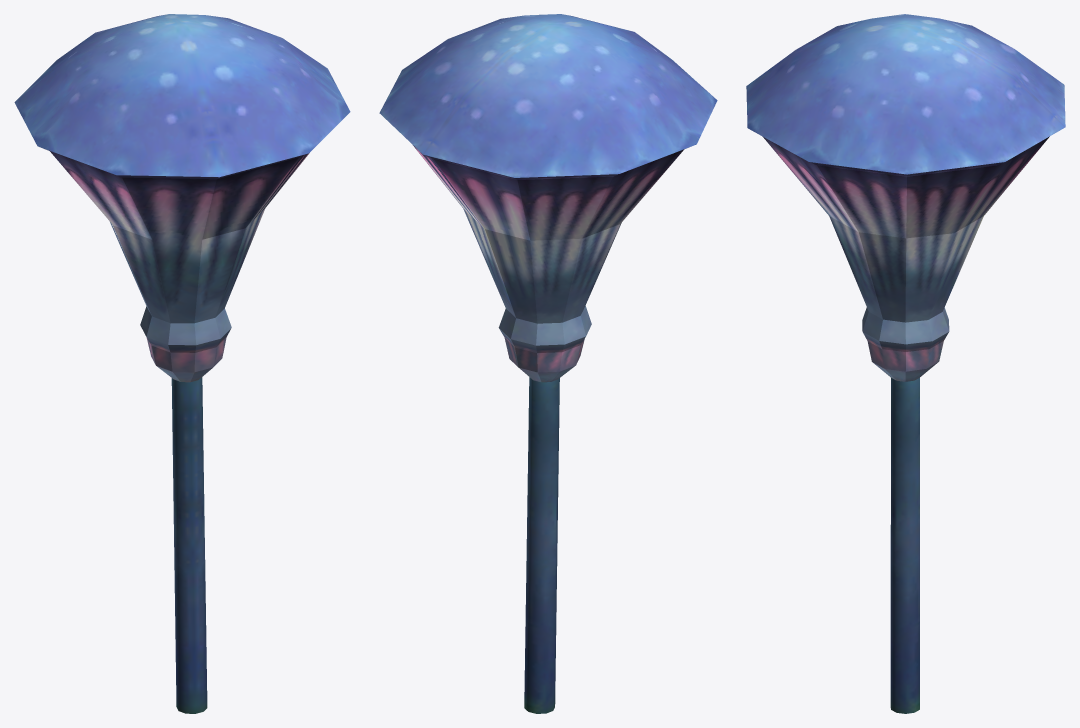
File: gonghui_mogu_02 (2).fbx
3 renders of one model, left to right at view 1: azimuth 30°, elevation 25°; view 2: azimuth 150°, elevation 25°; view 3: azimuth 270°, elevation 25°, orthographic.
Parts seen in each view (by area): view 1: gonghui_mogu_02 (2); view 2: gonghui_mogu_02 (2); view 3: gonghui_mogu_02 (2).
Boxes of the visible parts, left/top/right/bottom form: gonghui_mogu_02 (2): left=14, top=14, right=350, bottom=713; gonghui_mogu_02 (2): left=379, top=14, right=717, bottom=713; gonghui_mogu_02 (2): left=746, top=14, right=1065, bottom=713.
Bounding box in the file's own units: 0.3876 × 0.8665 × 0.3697.
